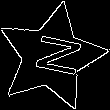N_W: (22, 32, 81, 82)
